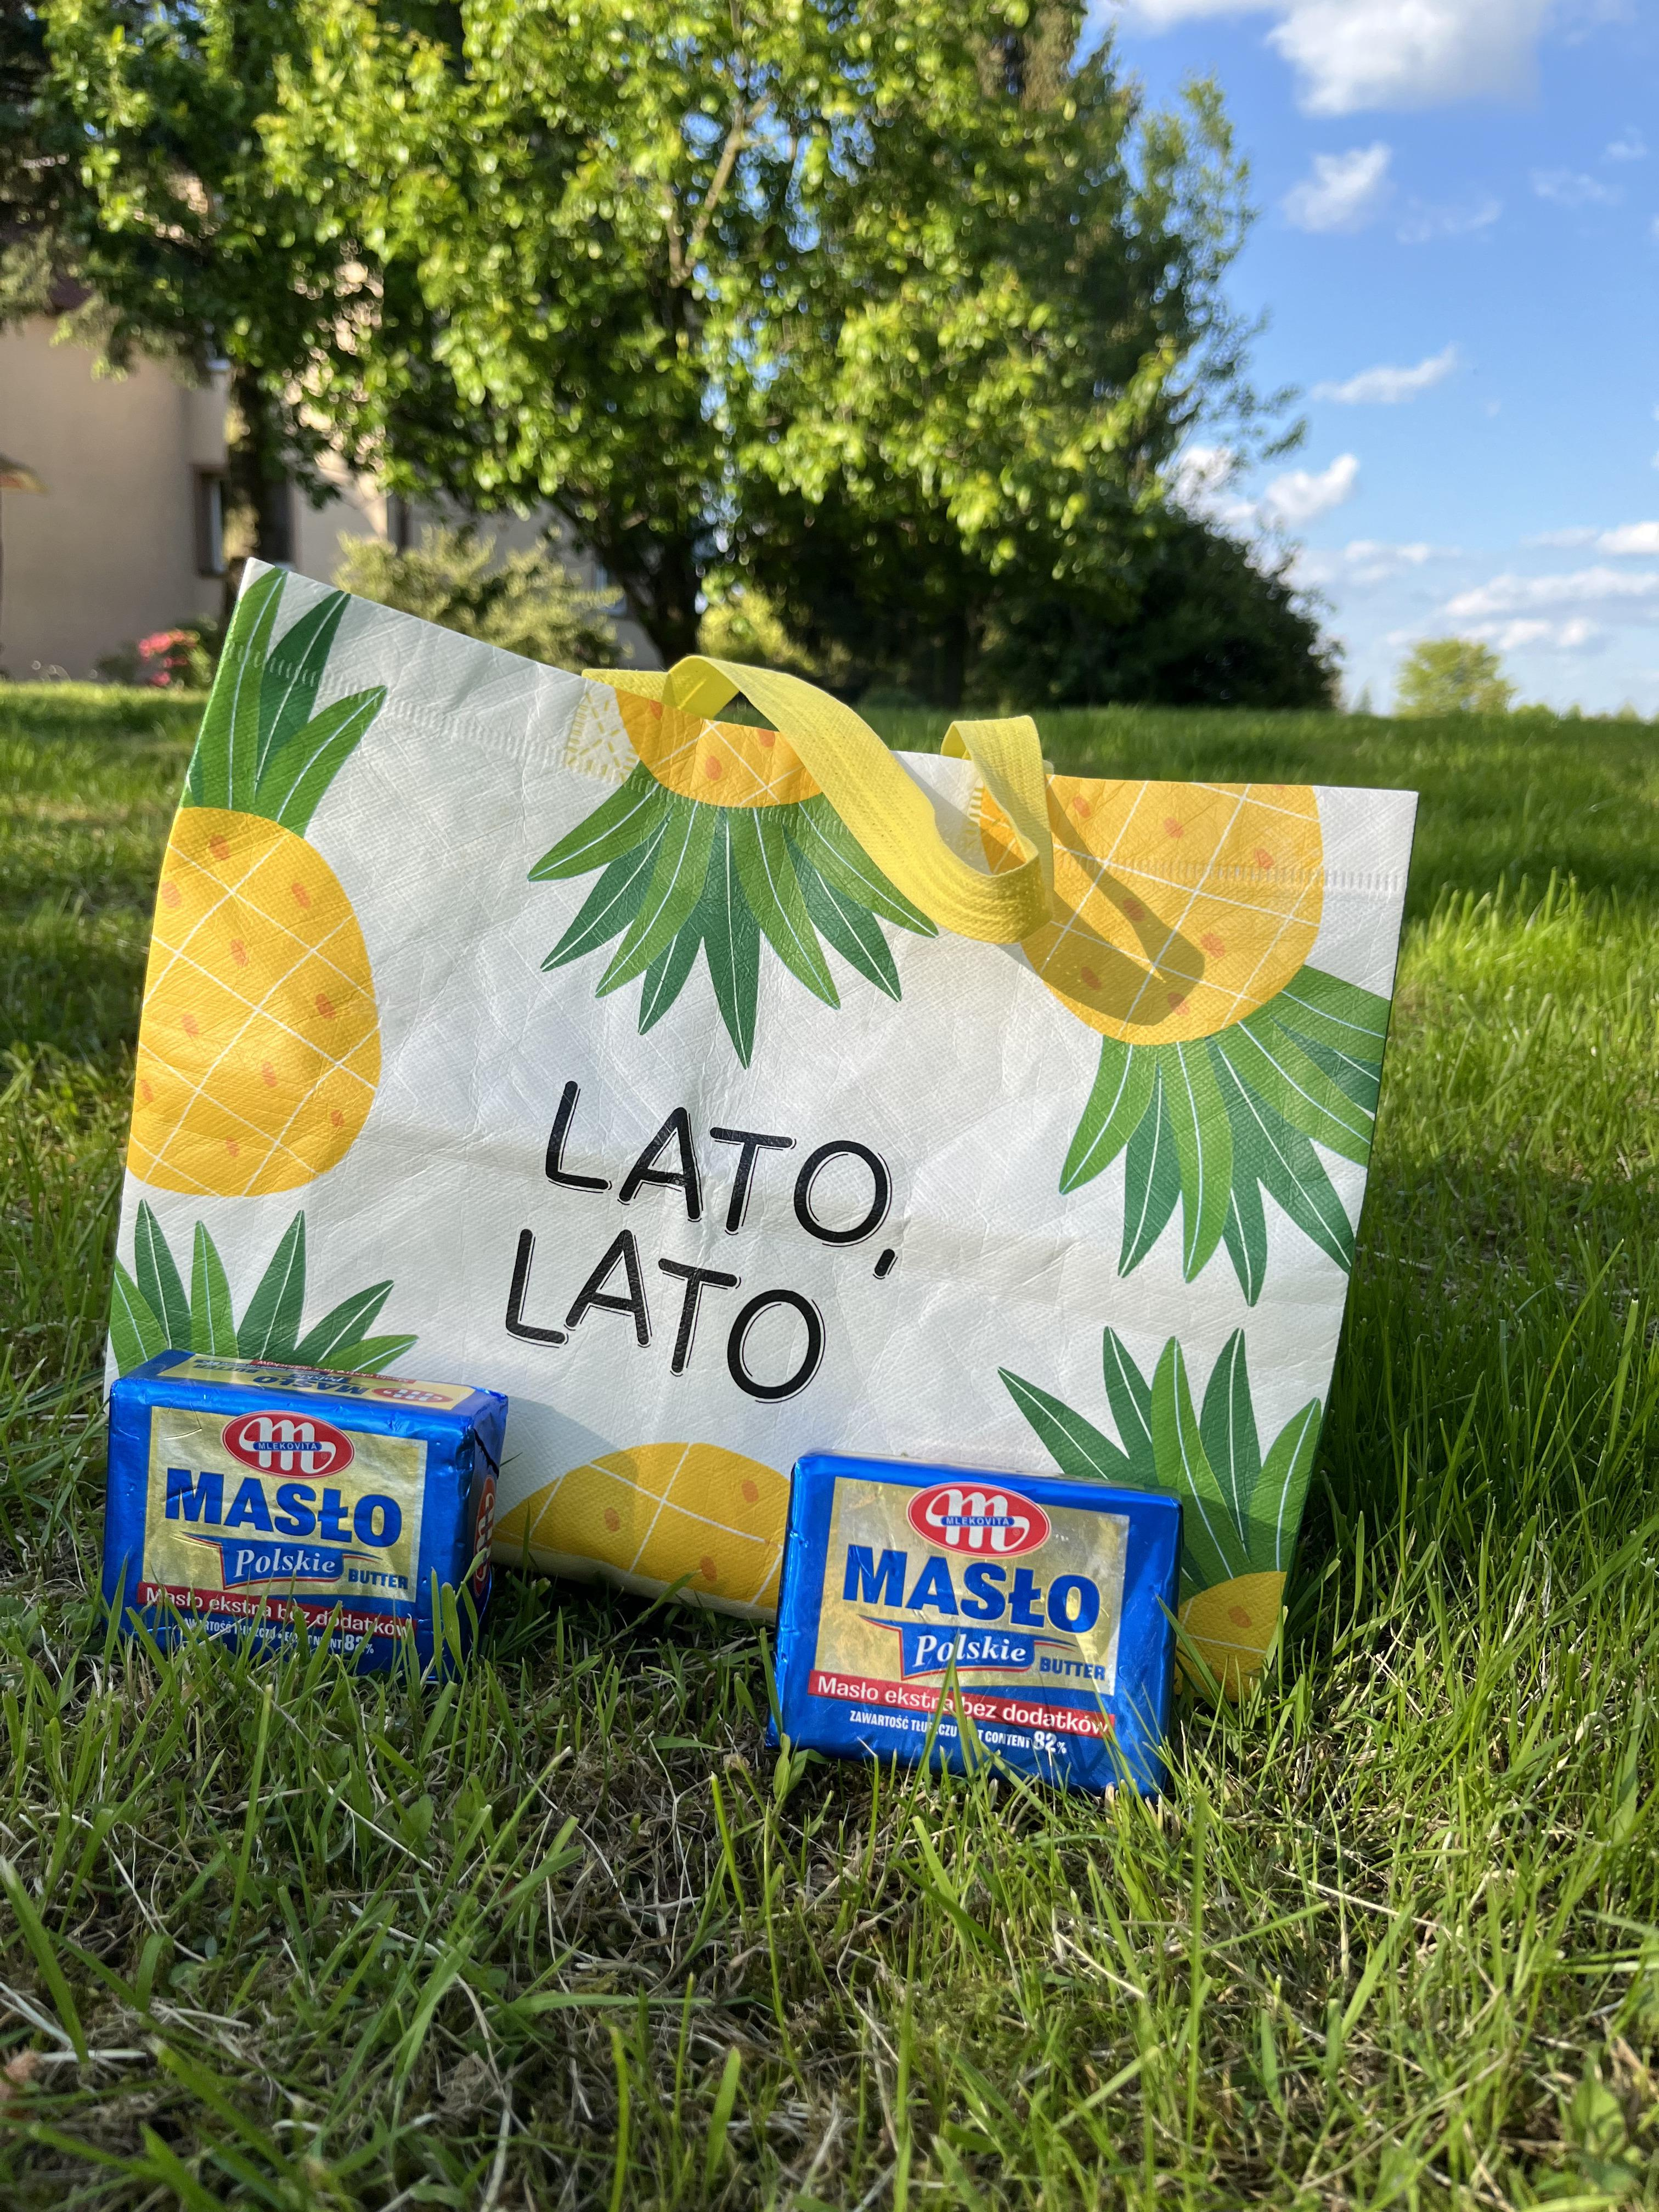Butter: (84, 1339, 498, 1660), (775, 1460, 1176, 1766)
